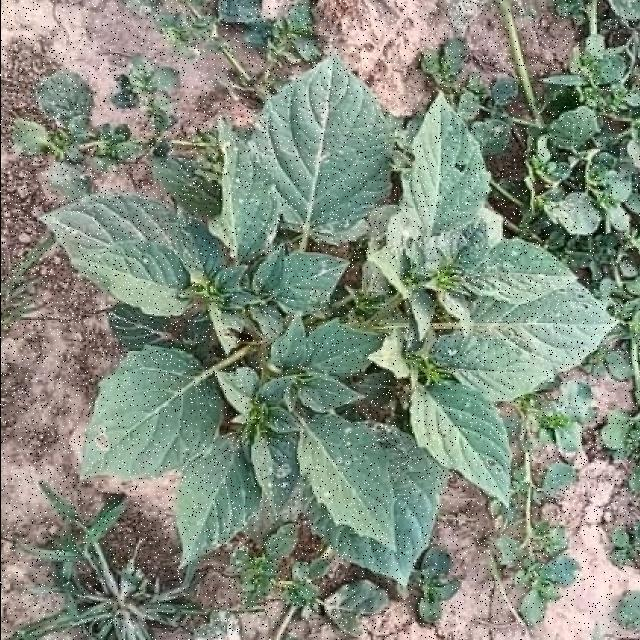weed: (39, 55, 617, 582)
